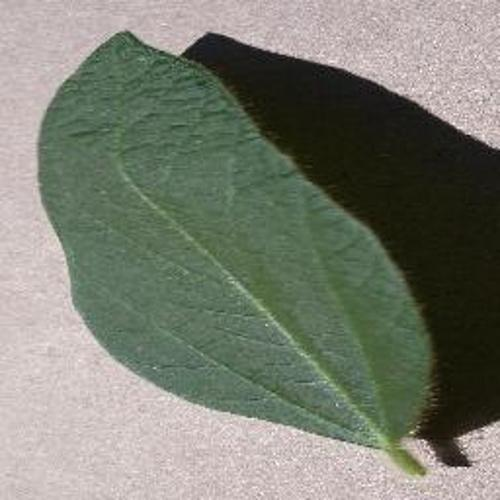Soybean: (41, 32, 432, 474)
